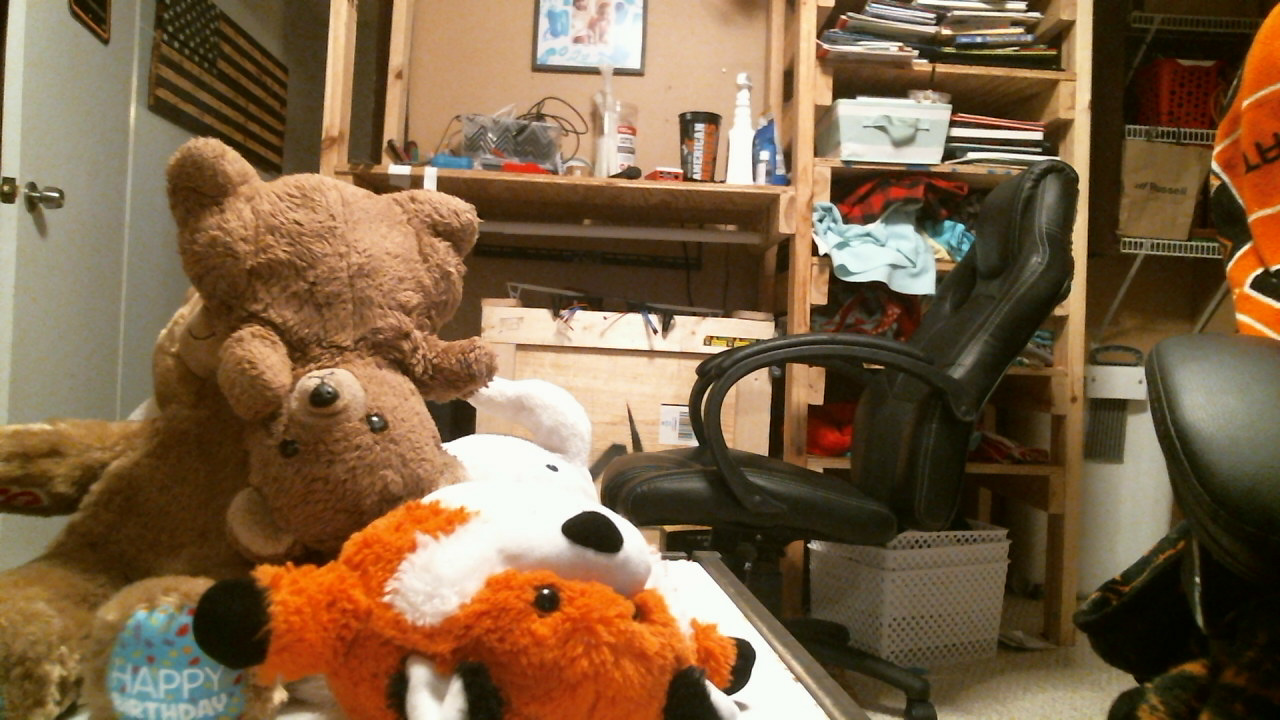Little_Mister_Bear: (253, 360, 415, 504)
